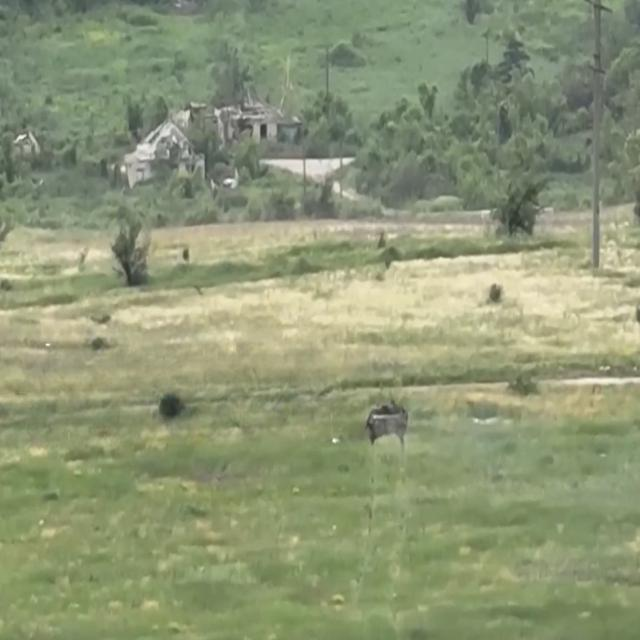AIFV: (366, 397, 411, 446)
